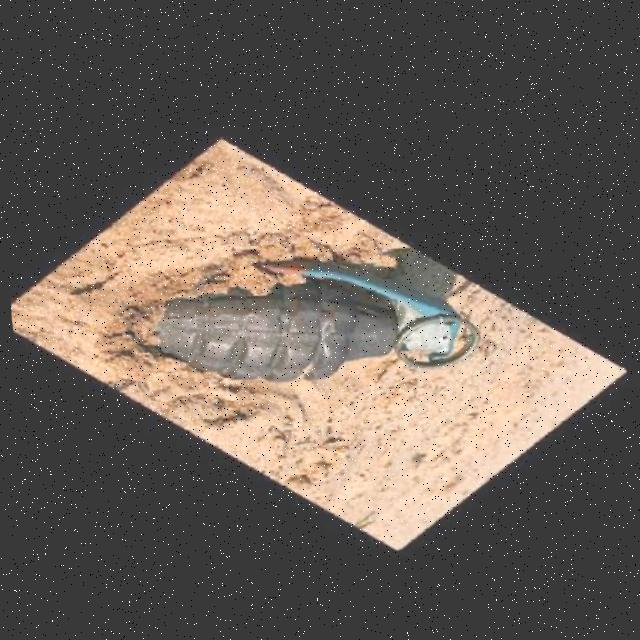grenade: (109, 236, 493, 402)
